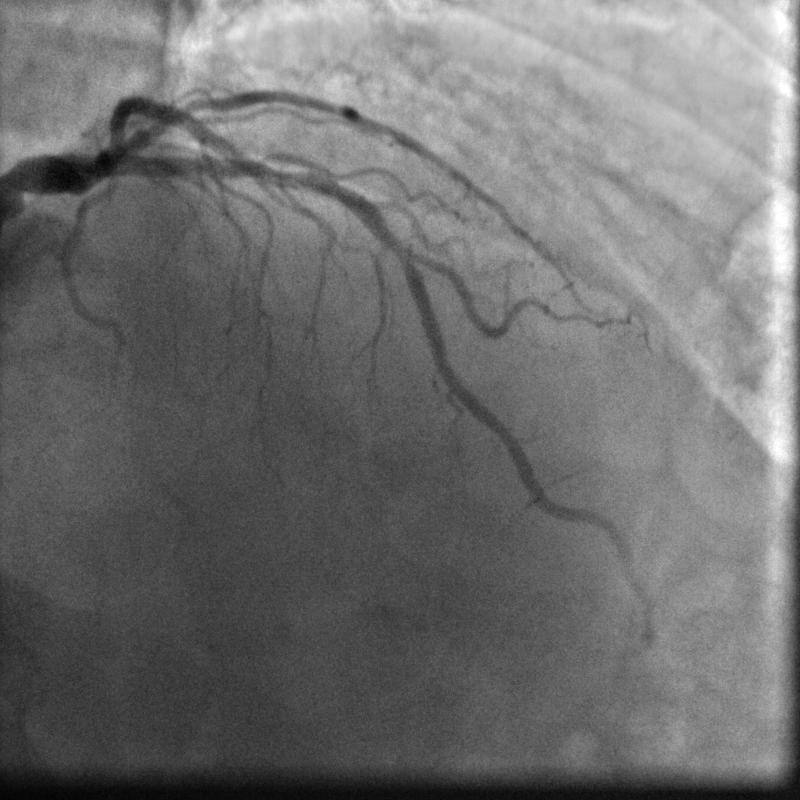Stenosis: (251, 161, 312, 187)
